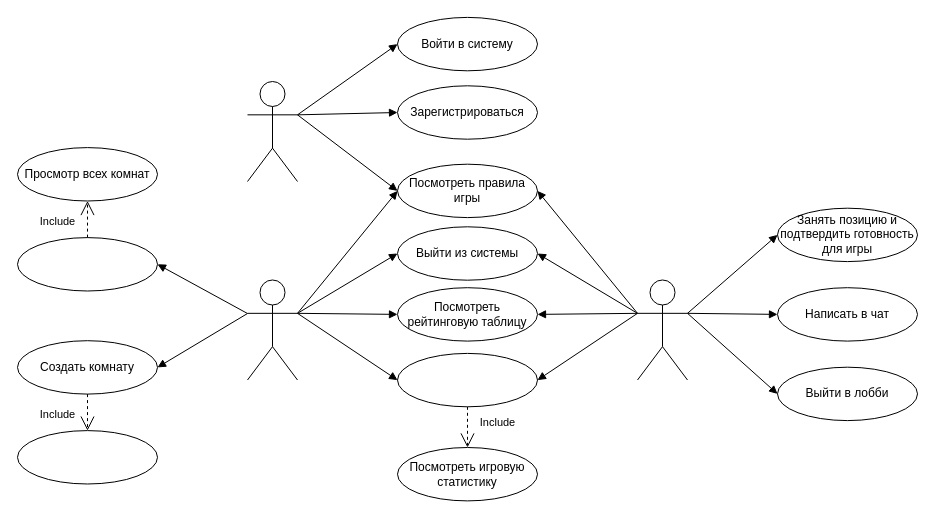
Image size: 935x519. Some labels were removed from this diagram. Each missing label, with the box of its shape:
Авторизированный пользователь в комнате: (636, 279, 688, 380)
Авторизированный пользователь в лобби: (246, 279, 298, 380)
Войти в комнату: (16, 237, 158, 291)
Настройка параметров: (16, 430, 158, 484)
Неавторизированный пользователь: (246, 80, 298, 182)
Посмотреть профиль: (396, 352, 538, 407)
